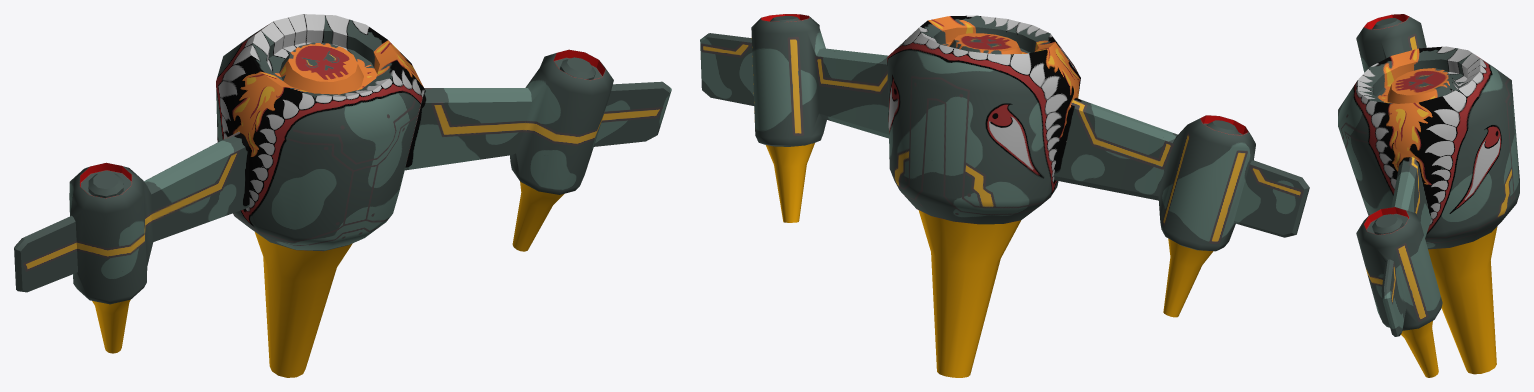
Rendered from Glider_Turbine.fbx.
3 views of the same model, side by side, from view 1: azimuth 30°, elevation 25°; view 2: azimuth 150°, elevation 25°; view 3: azimuth 270°, elevation 25° (orthographic). The views are drawn at different scales.
Visible parts, largest first — view 1: Glider_Turbine, Thruster02, Thruster01, Thruster03; view 2: Glider_Turbine, Thruster02, Thruster01, Thruster03; view 3: Glider_Turbine, Thruster02, Thruster01.
Part boxes in pixels (left/top/right/bottom): Glider_Turbine: left=14, top=14, right=671, bottom=304; Thruster02: left=255, top=232, right=352, bottom=377; Thruster01: left=512, top=181, right=564, bottom=251; Thruster03: left=92, top=299, right=130, bottom=353; Glider_Turbine: left=700, top=14, right=1309, bottom=251; Thruster02: left=918, top=210, right=1020, bottom=377; Thruster01: left=766, top=143, right=814, bottom=222; Thruster03: left=1163, top=238, right=1213, bottom=317; Glider_Turbine: left=1338, top=14, right=1519, bottom=336; Thruster02: left=1428, top=227, right=1497, bottom=374; Thruster01: left=1401, top=321, right=1438, bottom=377.
Bounding box in the file's own units: 2.03 × 0.5658 × 1.05.
Materials: 2 (1 with a texture image).
